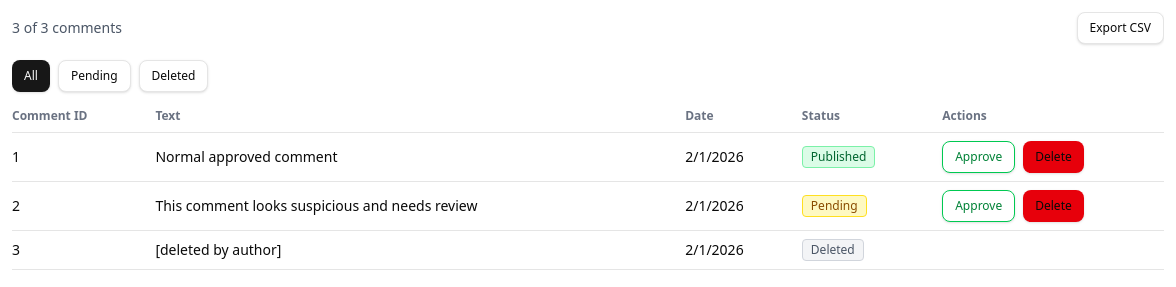
ModerationPanel › shows only pending comments when Pending filter is active
Click the button "Pending" at x=94, y=76, box [58, 60, 131, 92]
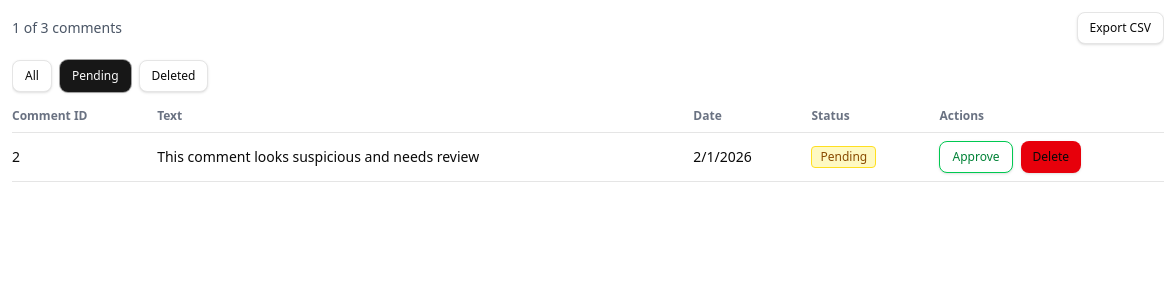
expect the text "This comment looks suspicious and needs review" is shown: met, box [157, 132, 693, 182]
expect the text "Normal approved comment" is gone: met
